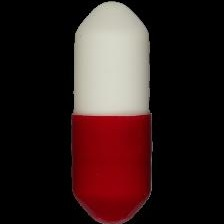0007-3650: (0, 0, 224, 224)
